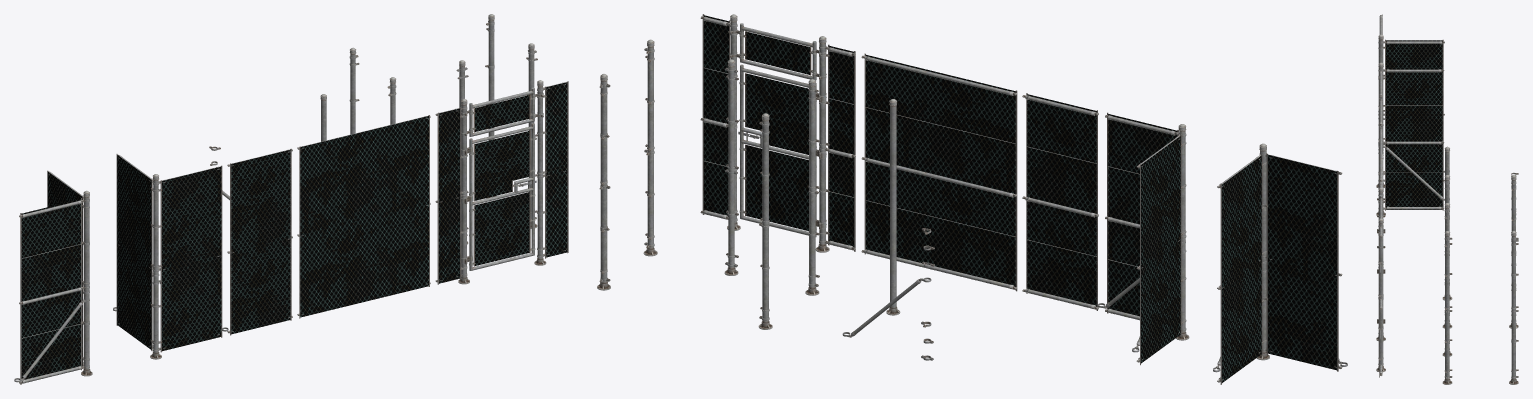
Rendered from modular_chainlink_fence.glb.
3 renders of one model, left to right at view 1: azimuth 30°, elevation 25°; view 2: azimuth 150°, elevation 25°; view 3: azimuth 270°, elevation 25°, orthographic. The views are drawn at different scales.
Parts seen in each view (by area): view 1: modular_chainlink_fence_double, modular_chainlink_fence_corner_outer, modular_chainlink_fence_door_frame, modular_chainlink_fence_corner_inner, modular_chainlink_fence, modular_chainlink_fence_door_gate, modular_chainlink_fence_start_01_corner_02, modular_chainlink_fence_start_01_corner_01, modular_chainlink_fence_end_02; view 2: modular_chainlink_fence_double, modular_chainlink_fence_corner_inner, modular_chainlink_fence_corner_outer, modular_chainlink_fence_door_frame, modular_chainlink_fence, modular_chainlink_fence_door_gate, modular_chainlink_fence_start_01_corner_02, modular_chainlink_post_middle, modular_chainlink_fence_end_01, modular_chainlink_fence_start_01_corner_01, modular_chainlink_fence_end_02, modular_chainlink_fence_post; view 3: modular_chainlink_fence_corner_outer, modular_chainlink_fence_corner_inner, modular_chainlink_fence_door_frame, modular_chainlink_fence_start_01_corner_01, modular_chainlink_fence_start_01_corner_02, modular_chainlink_fence_end_02, modular_chainlink_fence_double, modular_chainlink_fence_end_01, modular_chainlink_post_middle, modular_chainlink_fence_post.
Part boxes in pixels (x1,y1,x2,y2): modular_chainlink_fence_double: [297, 115, 430, 318]; modular_chainlink_fence_corner_outer: [113, 154, 228, 359]; modular_chainlink_fence_door_frame: [435, 80, 568, 284]; modular_chainlink_fence_corner_inner: [14, 170, 92, 384]; modular_chainlink_fence: [227, 148, 292, 335]; modular_chainlink_fence_door_gate: [469, 123, 535, 270]; modular_chainlink_fence_start_01_corner_02: [485, 14, 496, 198]; modular_chainlink_fence_start_01_corner_01: [526, 43, 537, 228]; modular_chainlink_fence_end_02: [349, 47, 359, 134]; modular_chainlink_fence_double: [861, 53, 1017, 291]; modular_chainlink_fence_corner_inner: [1213, 143, 1347, 384]; modular_chainlink_fence_corner_outer: [1097, 112, 1189, 365]; modular_chainlink_fence_door_frame: [700, 14, 855, 252]; modular_chainlink_fence: [1022, 93, 1098, 310]; modular_chainlink_fence_door_gate: [739, 64, 816, 236]; modular_chainlink_fence_start_01_corner_02: [597, 74, 610, 290]; modular_chainlink_post_middle: [724, 59, 738, 275]; modular_chainlink_fence_end_01: [805, 79, 819, 295]; modular_chainlink_fence_start_01_corner_01: [643, 39, 657, 256]; modular_chainlink_fence_end_02: [758, 113, 772, 329]; modular_chainlink_fence_post: [886, 99, 900, 315]; modular_chainlink_fence_corner_outer: [1376, 62, 1449, 228]; modular_chainlink_fence_corner_inner: [1376, 14, 1449, 188]; modular_chainlink_fence_door_frame: [1376, 182, 1385, 377]; modular_chainlink_fence_start_01_corner_01: [1442, 231, 1452, 384]; modular_chainlink_fence_start_01_corner_02: [1509, 231, 1518, 384]; modular_chainlink_fence_end_02: [1509, 175, 1518, 328]; modular_chainlink_fence_double: [1379, 126, 1382, 183]; modular_chainlink_fence_end_01: [1442, 175, 1452, 328]; modular_chainlink_post_middle: [1442, 203, 1452, 356]; modular_chainlink_fence_post: [1442, 146, 1452, 300].
Size of the model in its own units: 8.12 by 2.52 by 2.15.
2 materials, 2 textured.
